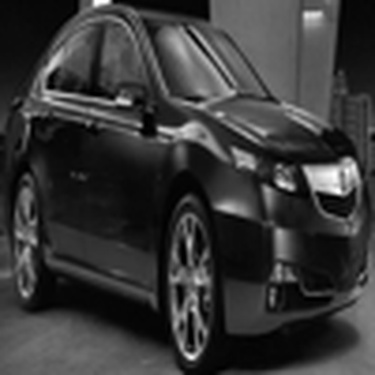car: (1, 5, 365, 354)
